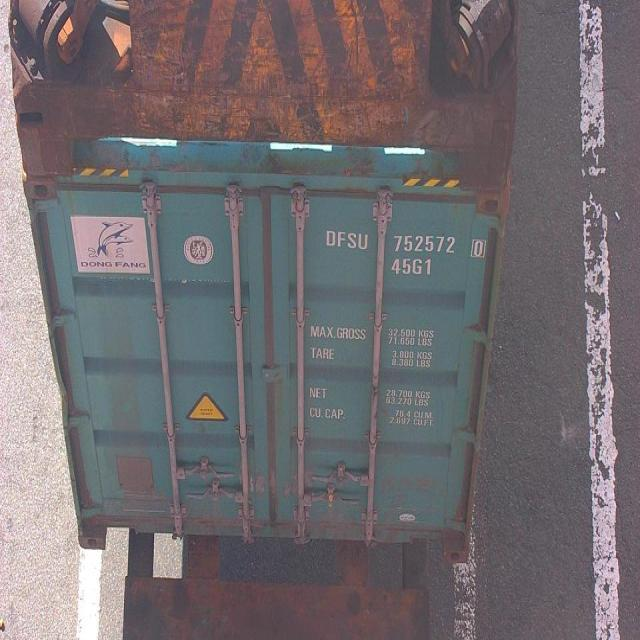ISO: (392, 258, 434, 277)
container_number: (324, 224, 486, 259)
